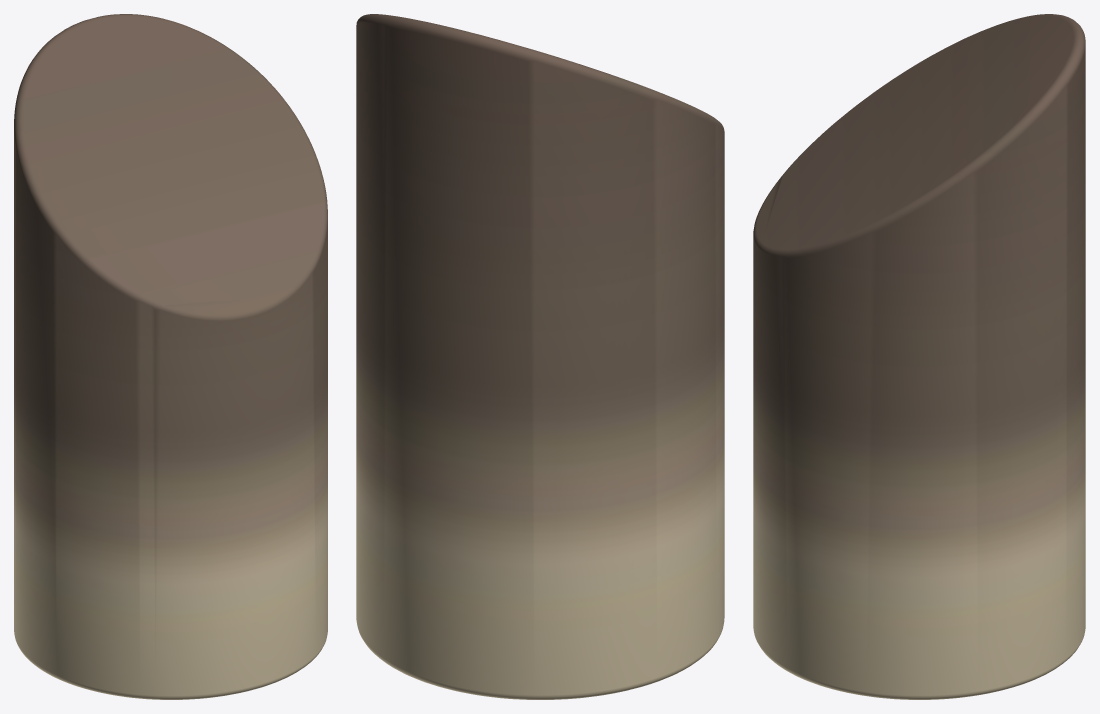
The model's file is monolith_strelec_cerny.glb.
3 renders of one model, left to right at view 1: azimuth 30°, elevation 25°; view 2: azimuth 150°, elevation 25°; view 3: azimuth 270°, elevation 25°, orthographic. The views are drawn at different scales.
Parts seen in each view (by area): view 1: MONOLITH Střelec – Kouř (černý); view 2: MONOLITH Střelec – Kouř (černý); view 3: MONOLITH Střelec – Kouř (černý).
Boxes of the visible parts, x1,y1,x2,y2 form: MONOLITH Střelec – Kouř (černý): (14, 14, 327, 699); MONOLITH Střelec – Kouř (černý): (356, 14, 724, 699); MONOLITH Střelec – Kouř (černý): (753, 14, 1085, 699).
Size of the model in its own units: 0.03 by 0.0594 by 0.03.
Materials: 1 (1 with a texture image).
